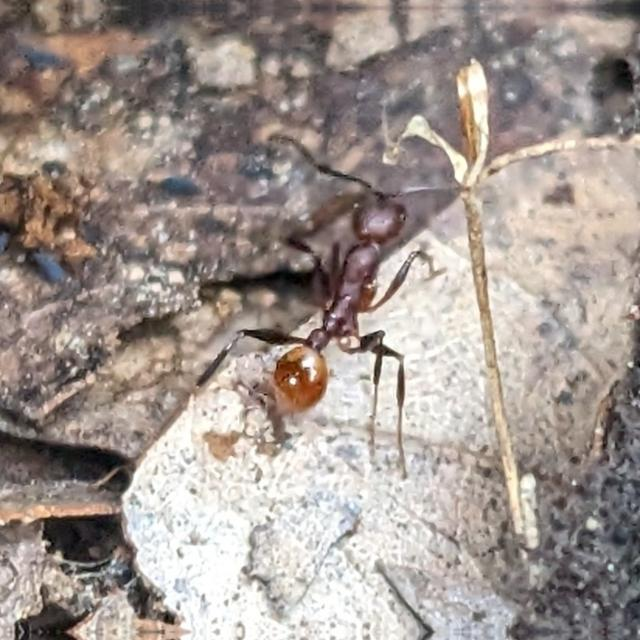Apheanogaster: (221, 116, 481, 446)
